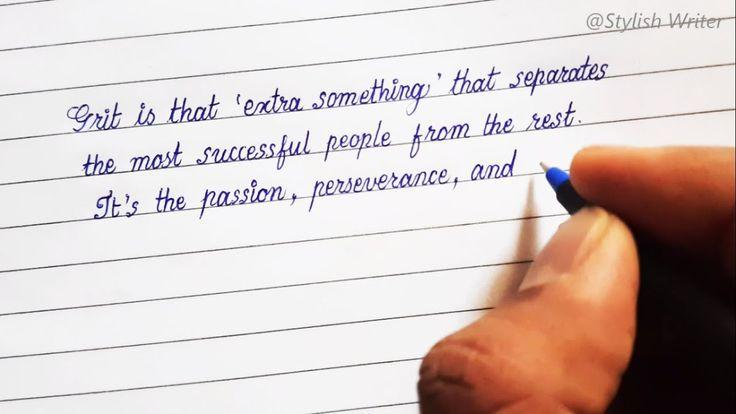text: (66, 53, 609, 133), (79, 99, 583, 179), (92, 148, 519, 223), (585, 8, 726, 35)
